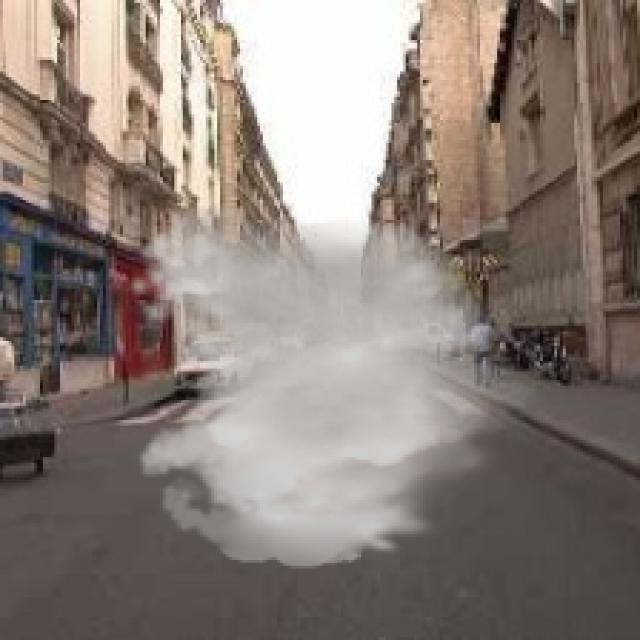Smoke: (123, 202, 546, 568)
